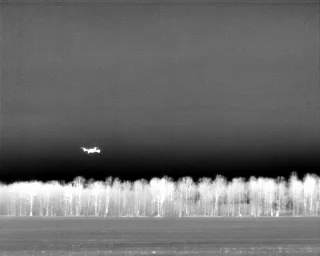DRONE: (78, 141, 106, 159)
